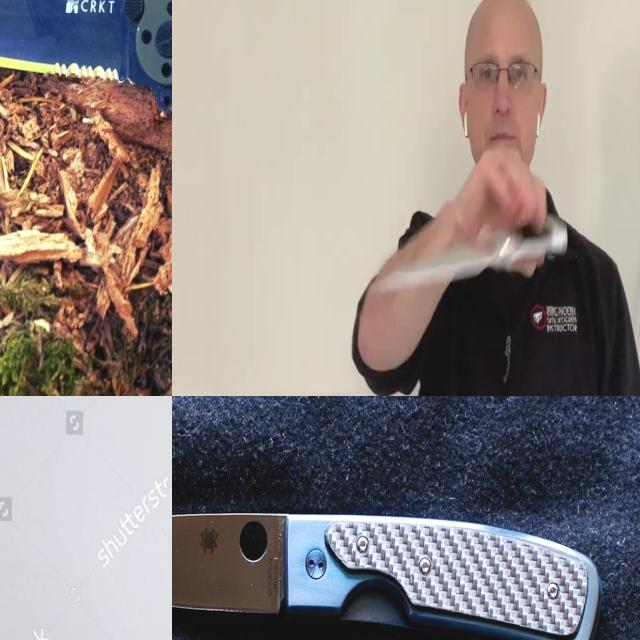Knife_Handle: (371, 145, 568, 295), (372, 213, 568, 294)
